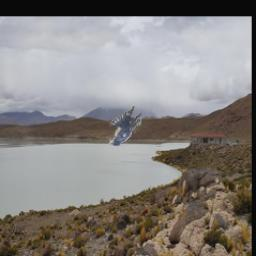Swallow: (109, 105, 142, 146)
